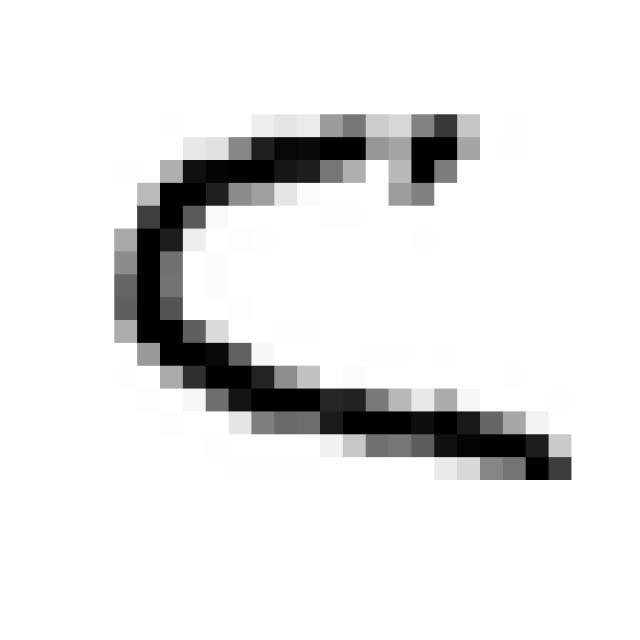2 -two-: (90, 94, 588, 503)
